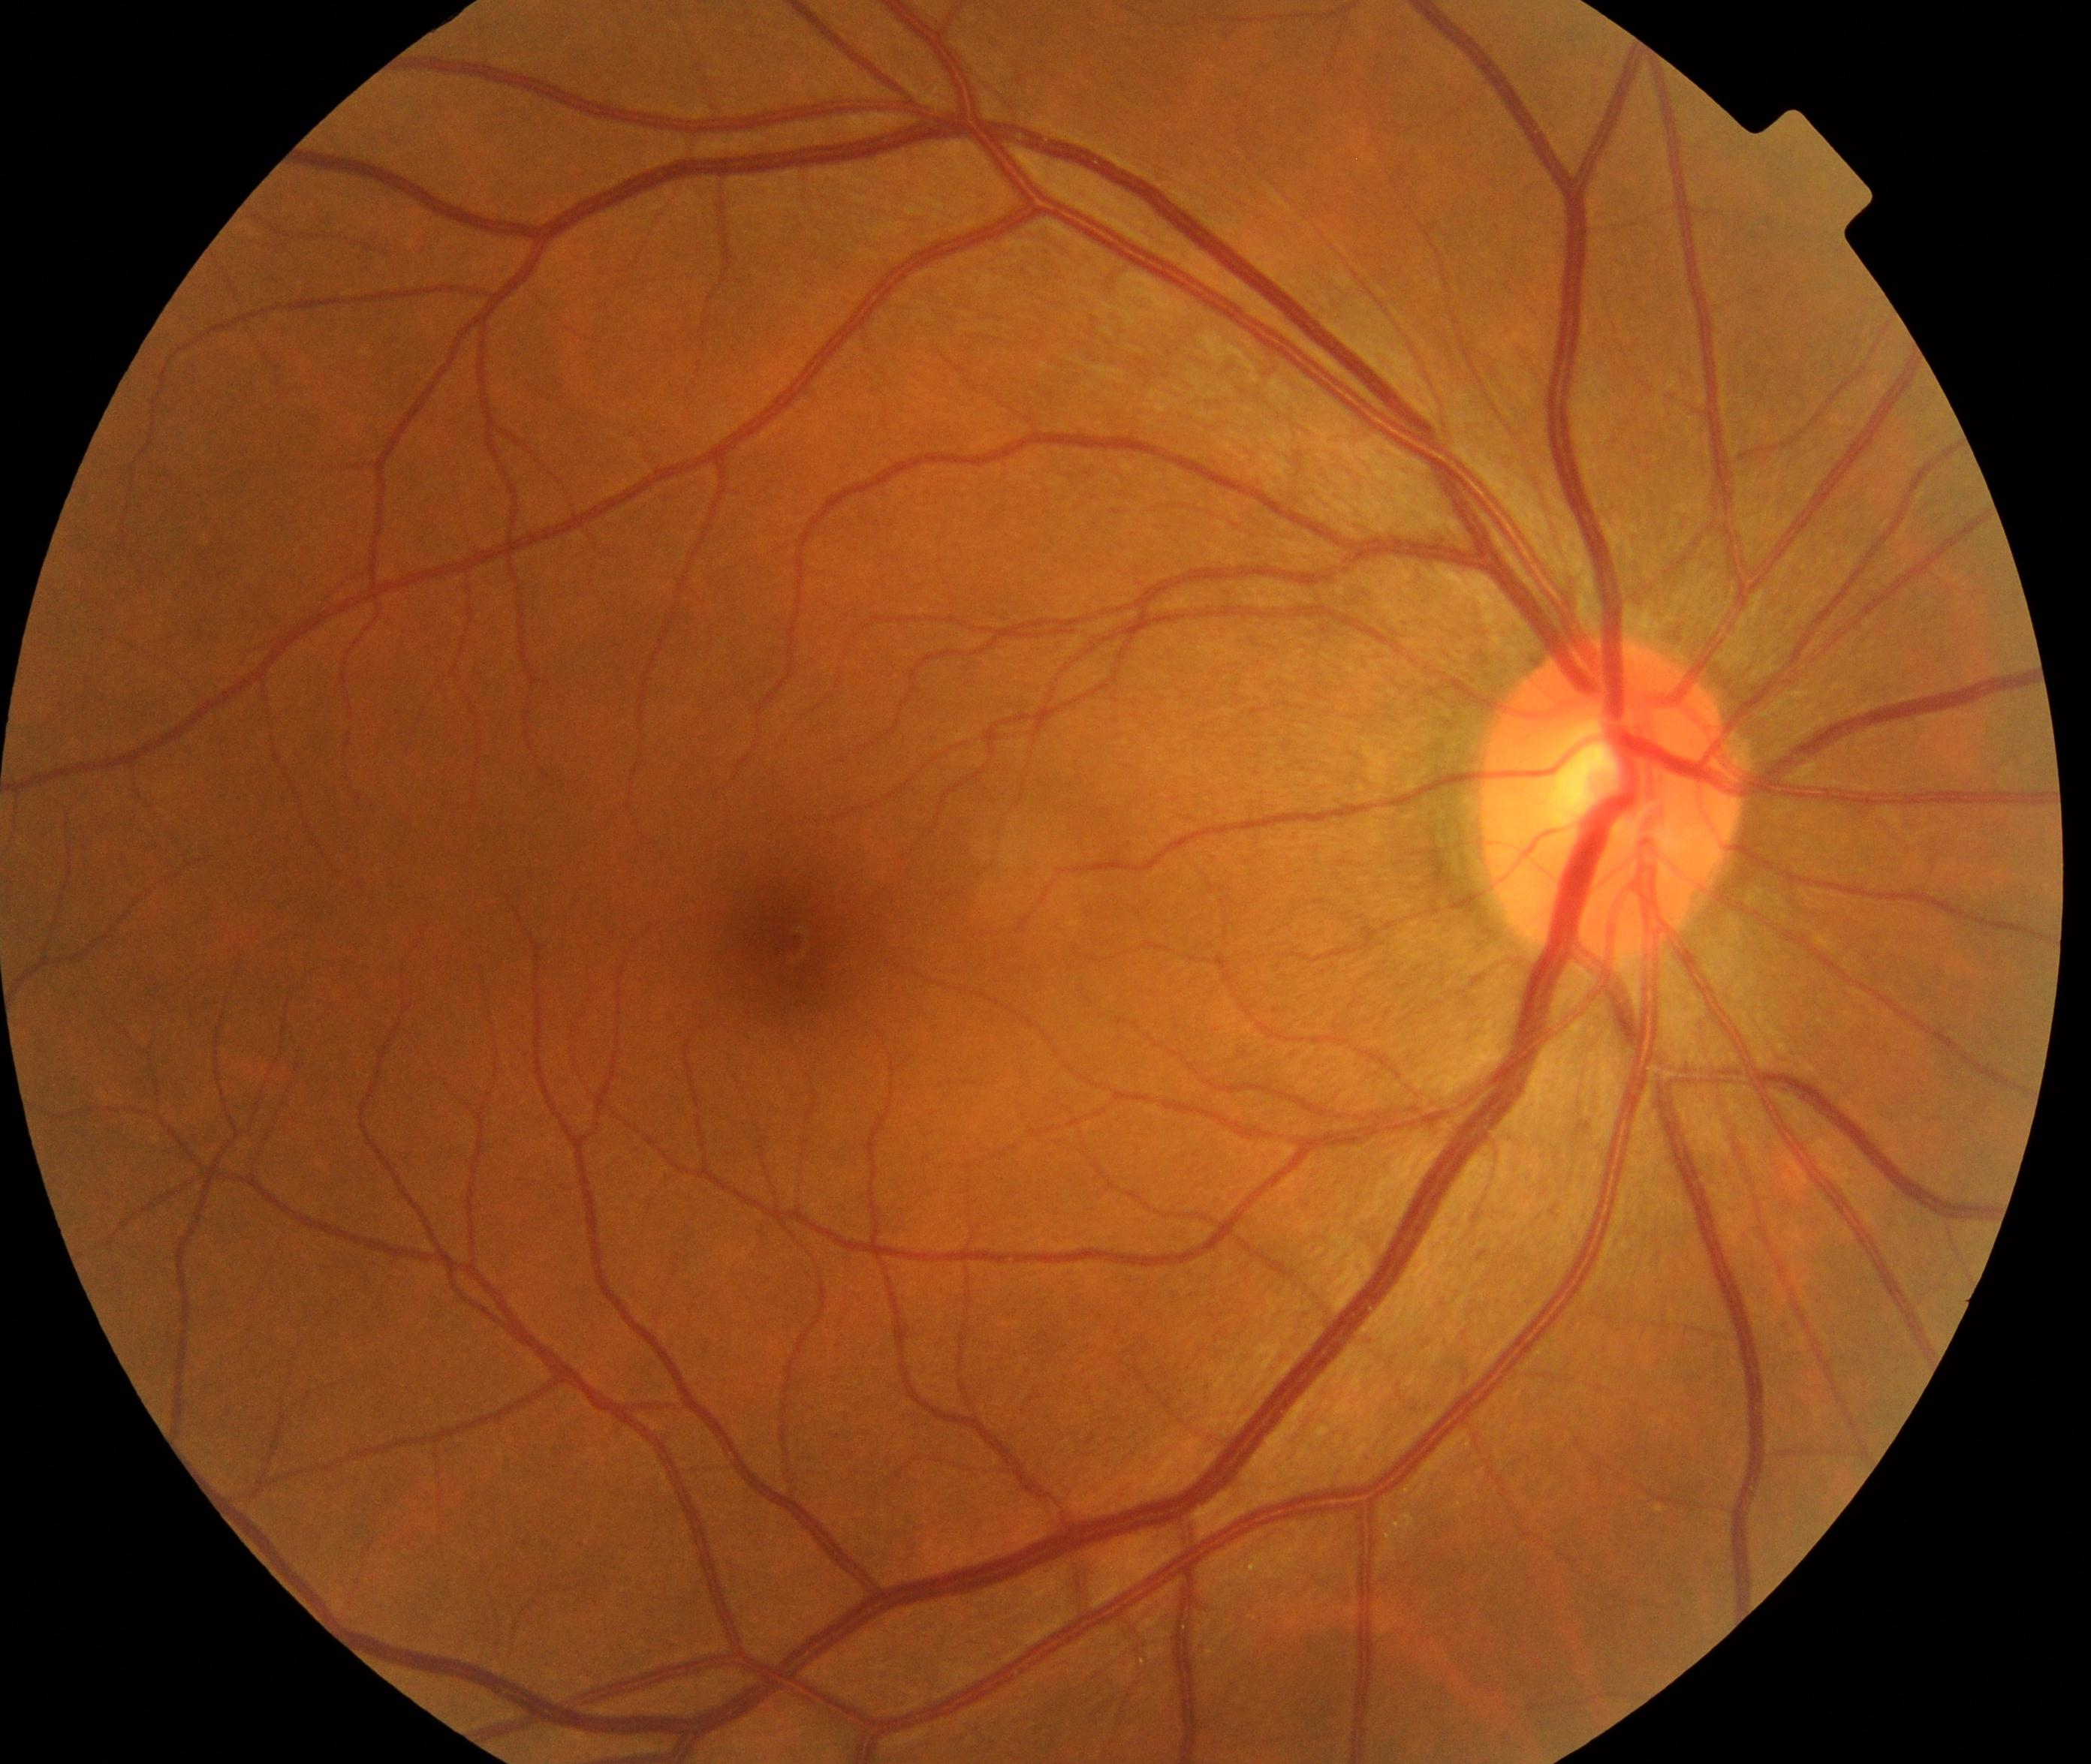Optic Cup: (1549, 714, 1648, 835)
Optic Disc: (1480, 639, 1746, 959)
